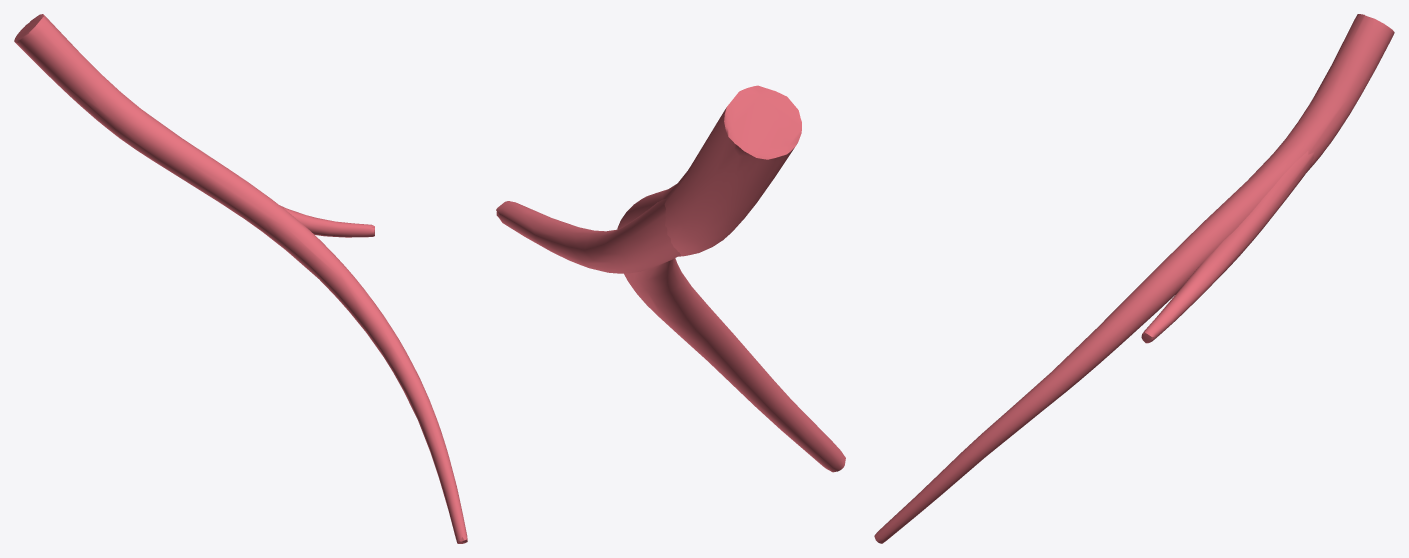
File: fma68137_cx145.glb
3 views of the same model, side by side, from view 1: azimuth 30°, elevation 25°; view 2: azimuth 150°, elevation 25°; view 3: azimuth 270°, elevation 25° (orthographic). The views are drawn at different scales.
Visible parts, largest first — view 1: FMA68137_CX145; view 2: FMA68137_CX145; view 3: FMA68137_CX145.
Part boxes in pixels (x1,y1,x2,y2): FMA68137_CX145: (14,14,467,543); FMA68137_CX145: (496,85,845,472); FMA68137_CX145: (874,14,1394,543).
Bounding box in the file's own units: 0.0474 × 0.0725 × 0.0796.
